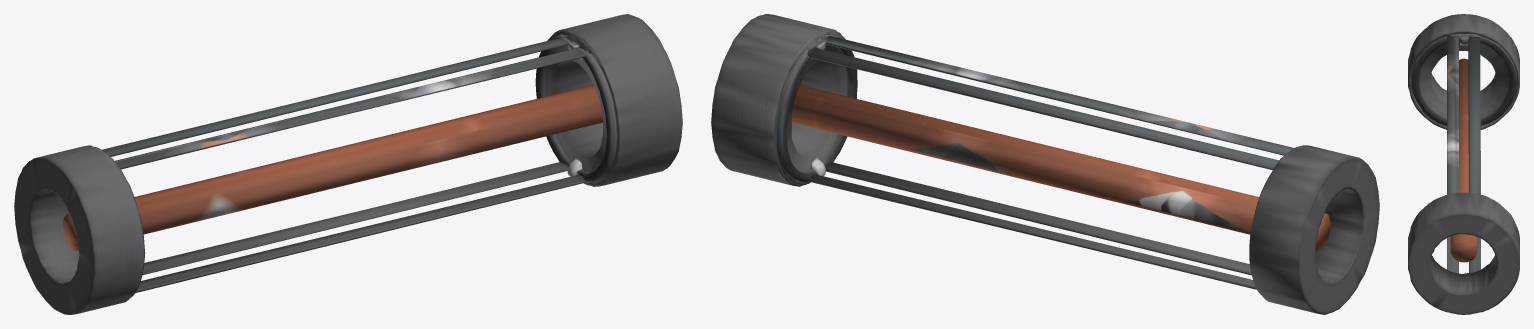
The model's file is CopperPipe_v2.glb.
The picture shows the model from 3 angles, left to right: view 1: azimuth 30°, elevation 25°; view 2: azimuth 150°, elevation 25°; view 3: azimuth 270°, elevation 25°; orthographic projection. The views are drawn at different scales.
Parts seen in each view (by area): view 1: tripo_node_1c81ac80-8c23-479e-a026-17dd5473c0e9; view 2: tripo_node_1c81ac80-8c23-479e-a026-17dd5473c0e9; view 3: tripo_node_1c81ac80-8c23-479e-a026-17dd5473c0e9.
Boxes of the visible parts, box(x1,y1,x2,y2) form: tripo_node_1c81ac80-8c23-479e-a026-17dd5473c0e9: box(14, 14, 682, 314); tripo_node_1c81ac80-8c23-479e-a026-17dd5473c0e9: box(711, 14, 1379, 314); tripo_node_1c81ac80-8c23-479e-a026-17dd5473c0e9: box(1408, 14, 1519, 314).
Size of the model in its own units: 0.998 by 0.2363 by 0.2363.
1 material, 1 textured.
